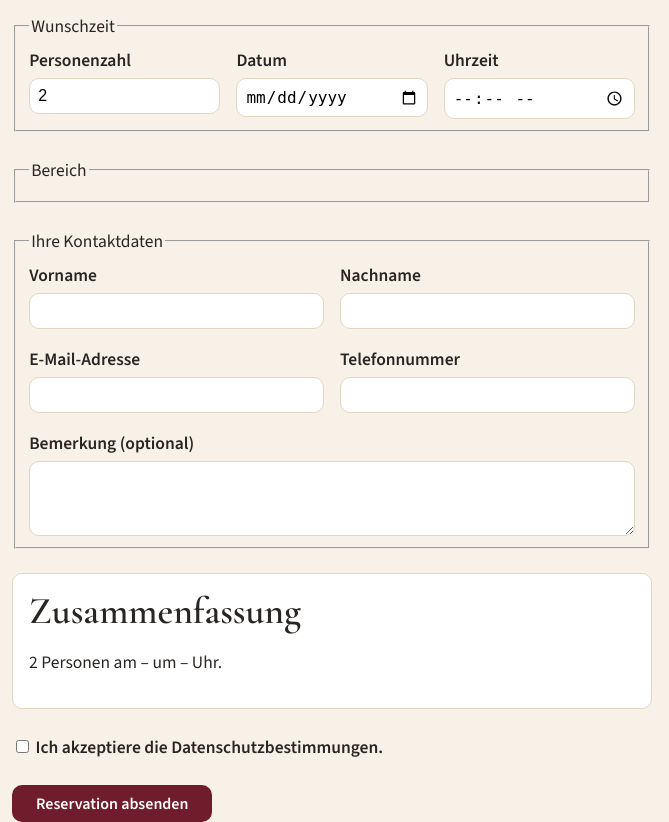
Test: ReservationForm › allows switching to an alternative area
Step 1. Type "2026-08-15" into the date field labelled "Datum" → coordinates (332, 98), box [236,78,428,117]
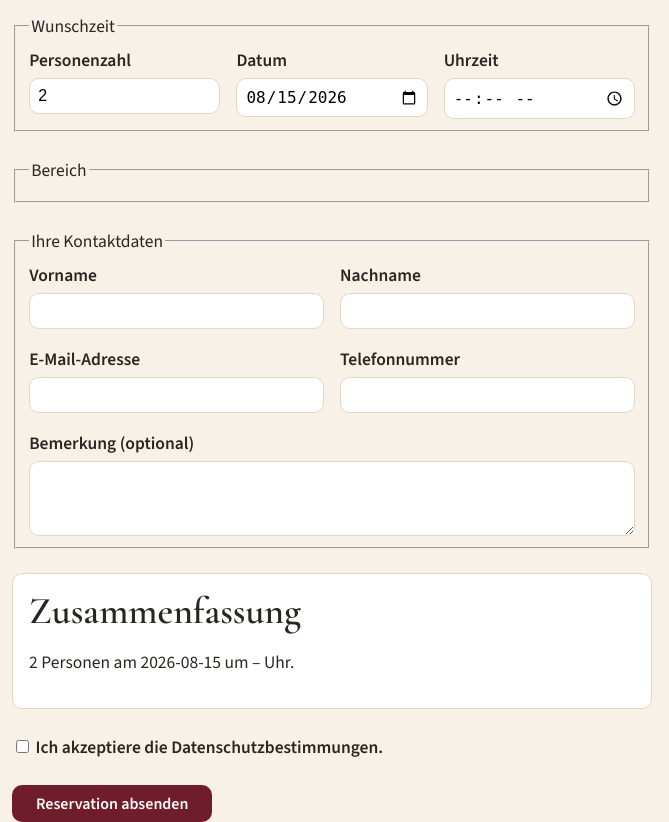
Step 2. Type "19:00" into the time field labelled "Uhrzeit" → coordinates (539, 99), box [444,78,635,119]
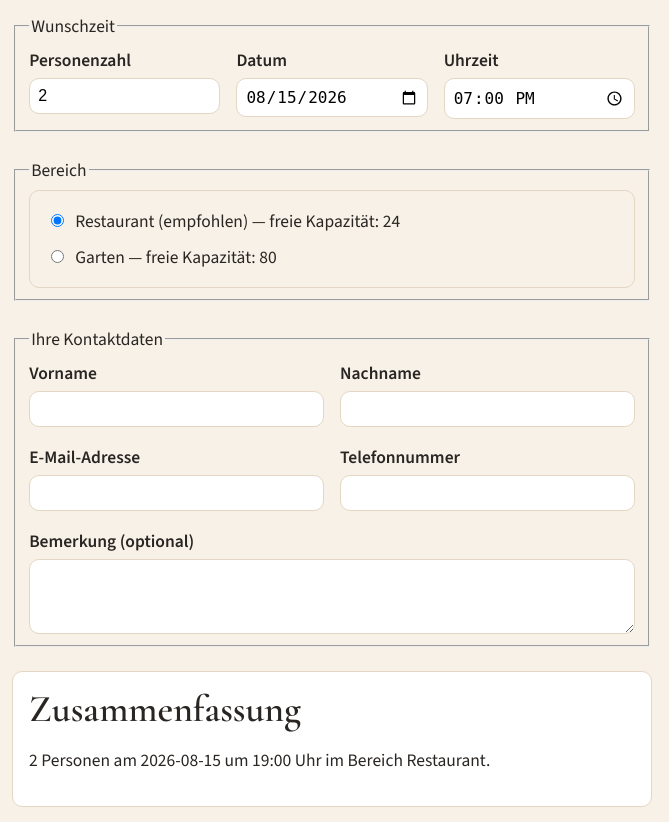
Check: the radio button labelled "Garten — freie Kapazität: 80" is shown
Step 3. Click the radio button labelled "Garten — freie Kapazität: 80" → coordinates (58, 256), box [51,250,64,263]
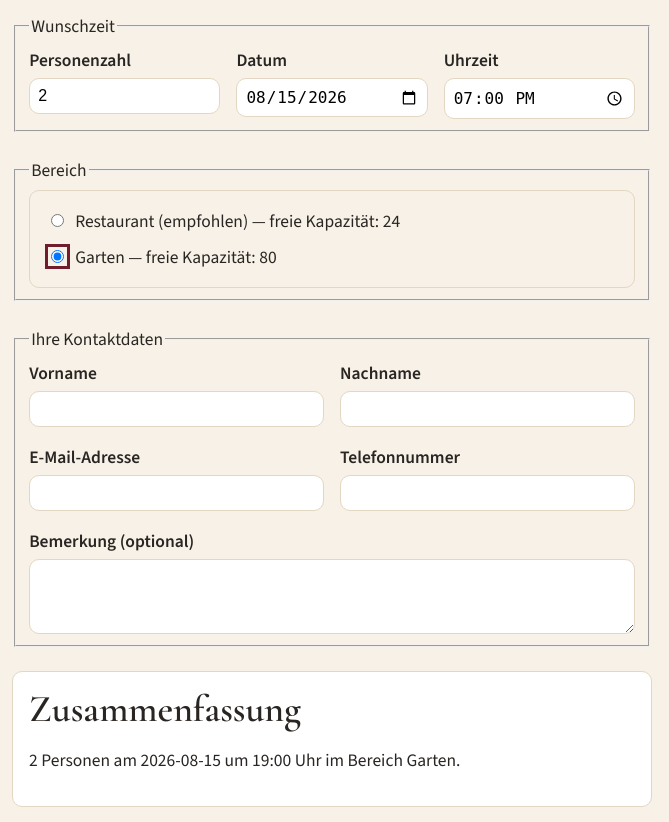
Check: the radio button labelled "Garten — freie Kapazität: 80" is checked, box [51,250,64,263]
Check: the radio button labelled "Restaurant (empfohlen) — freie Kapazität: 24" is not checked, box [51,214,64,227]
